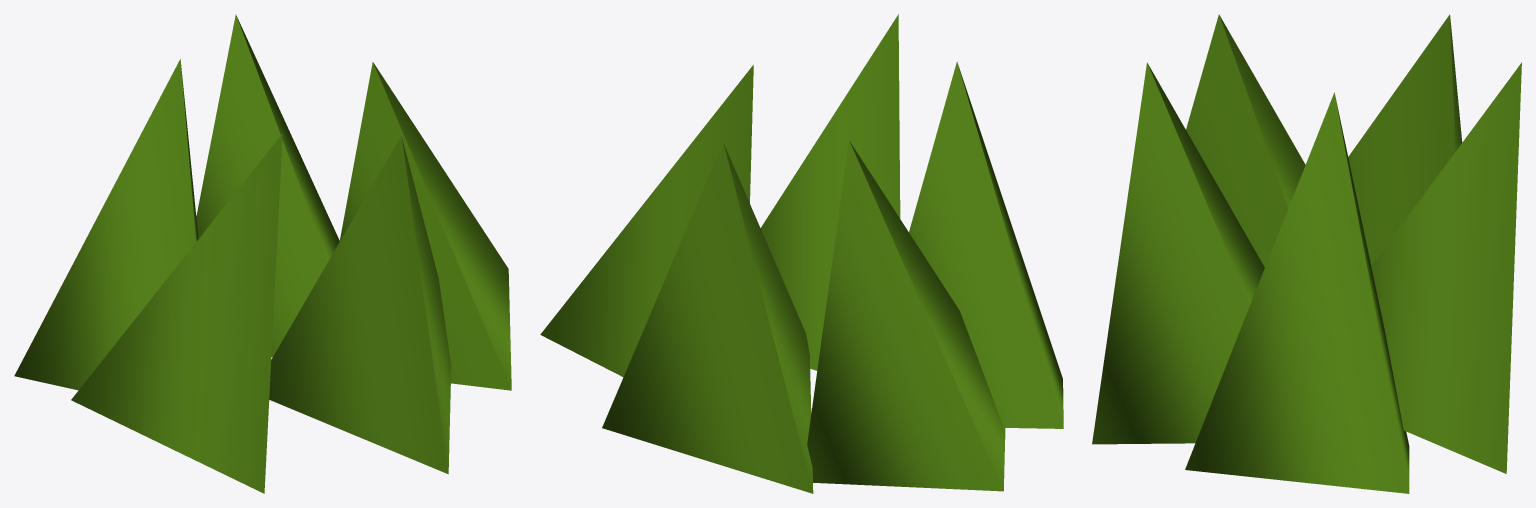
The model's file is foliage_tuft.glb.
3 renders of one model, left to right at view 1: azimuth 30°, elevation 25°; view 2: azimuth 150°, elevation 25°; view 3: azimuth 270°, elevation 25°, orthographic. The views are drawn at different scales.
Visible parts, largest first — view 1: Foliage_Tuft; view 2: Foliage_Tuft; view 3: Foliage_Tuft.
Part boxes in pixels (x1,y1,x2,y2): Foliage_Tuft: (14, 14, 511, 493); Foliage_Tuft: (540, 14, 1063, 493); Foliage_Tuft: (1092, 14, 1521, 493).
Bounding box in the file's own units: 1.43 × 0.958 × 1.01.
